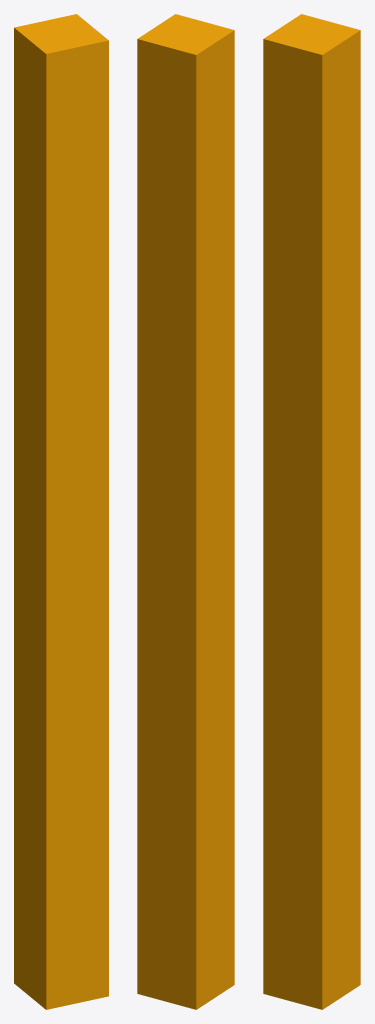
Rendered from fries2.obj.
3 renders of one model, left to right at view 1: azimuth 30°, elevation 25°; view 2: azimuth 150°, elevation 25°; view 3: azimuth 330°, elevation 25°, orthographic.
Visible parts, largest first — view 1: polySurface23 pCube31; view 2: polySurface23 pCube31; view 3: polySurface23 pCube31.
Part boxes in pixels (left/top/right/bottom): polySurface23 pCube31: left=14, top=14, right=108, bottom=1009; polySurface23 pCube31: left=137, top=14, right=234, bottom=1009; polySurface23 pCube31: left=263, top=14, right=360, bottom=1009.
Size of the model in its own units: 0.0491 by 0.7006 by 0.0491.
